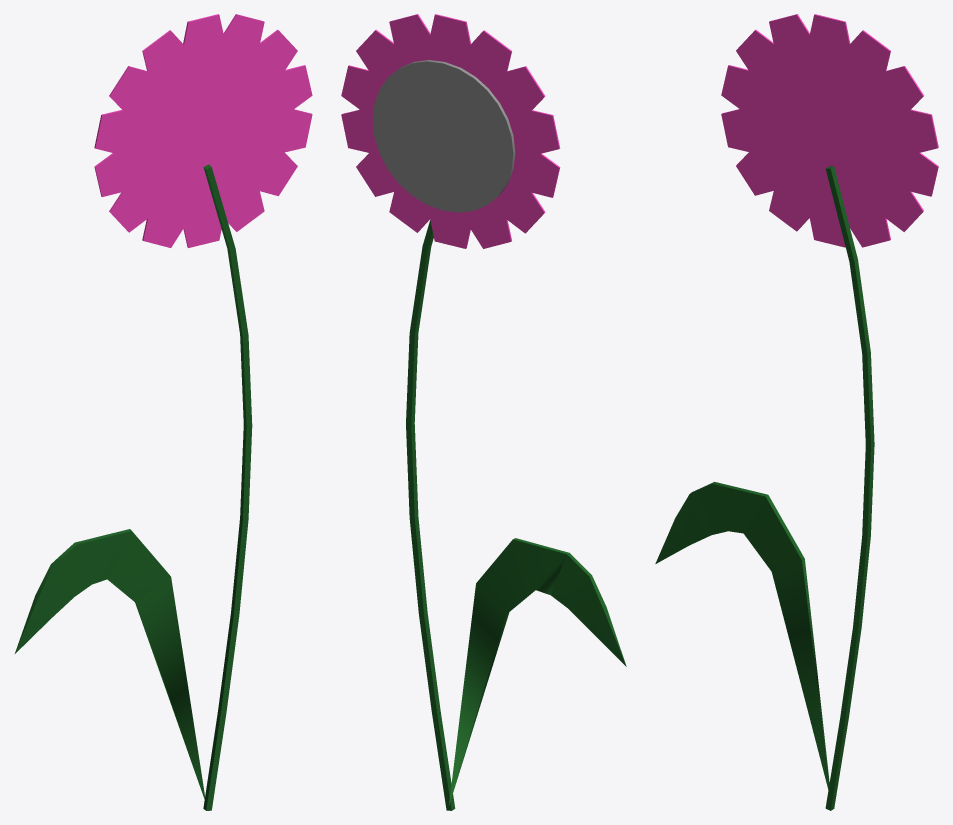
The model's file is MOD_Flower.FBX.
The picture shows the model from 3 angles, left to right: view 1: azimuth 30°, elevation 25°; view 2: azimuth 150°, elevation 25°; view 3: azimuth 330°, elevation 25°; orthographic projection.
Visible parts, largest first — view 1: MOD_fleurdeco; view 2: MOD_fleurdeco; view 3: MOD_fleurdeco.
Boxes of the visible parts, bbox=[...] form: MOD_fleurdeco: bbox=[15, 14, 312, 810]; MOD_fleurdeco: bbox=[341, 14, 626, 810]; MOD_fleurdeco: bbox=[655, 14, 938, 810].
Bounding box in the file's own units: 1.06 × 2.75 × 0.0748.
